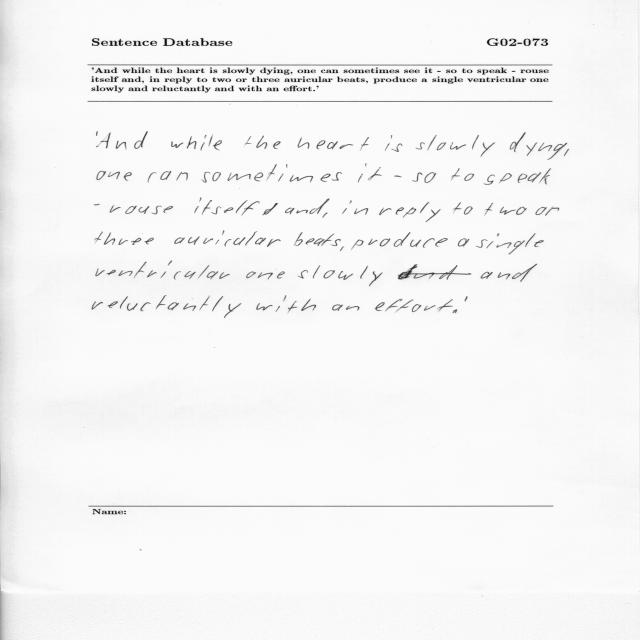word: (96, 261, 230, 280), (398, 264, 537, 282), (202, 164, 313, 183), (92, 296, 223, 312), (174, 230, 281, 247), (298, 265, 383, 286), (351, 232, 448, 250), (416, 135, 495, 157), (510, 132, 567, 160), (194, 198, 278, 216), (476, 233, 544, 254), (379, 202, 440, 222), (483, 168, 551, 185), (256, 296, 316, 313), (375, 299, 453, 312), (96, 132, 148, 150), (298, 137, 369, 149), (171, 134, 222, 150), (95, 232, 154, 245), (285, 199, 330, 215), (294, 232, 341, 246), (484, 203, 527, 215), (245, 135, 281, 149), (148, 171, 188, 182), (358, 164, 382, 182), (125, 206, 173, 215), (342, 200, 368, 215), (97, 171, 132, 181), (246, 272, 285, 280), (452, 168, 475, 181), (385, 135, 402, 152), (412, 172, 436, 183), (224, 303, 241, 318), (454, 202, 473, 215), (94, 204, 121, 213), (536, 206, 560, 216), (321, 172, 342, 182), (332, 304, 359, 311), (458, 238, 469, 247), (564, 149, 569, 156), (323, 212, 328, 218), (340, 246, 344, 251), (394, 176, 402, 178), (453, 309, 457, 313), (465, 297, 468, 302), (97, 131, 98, 136)
